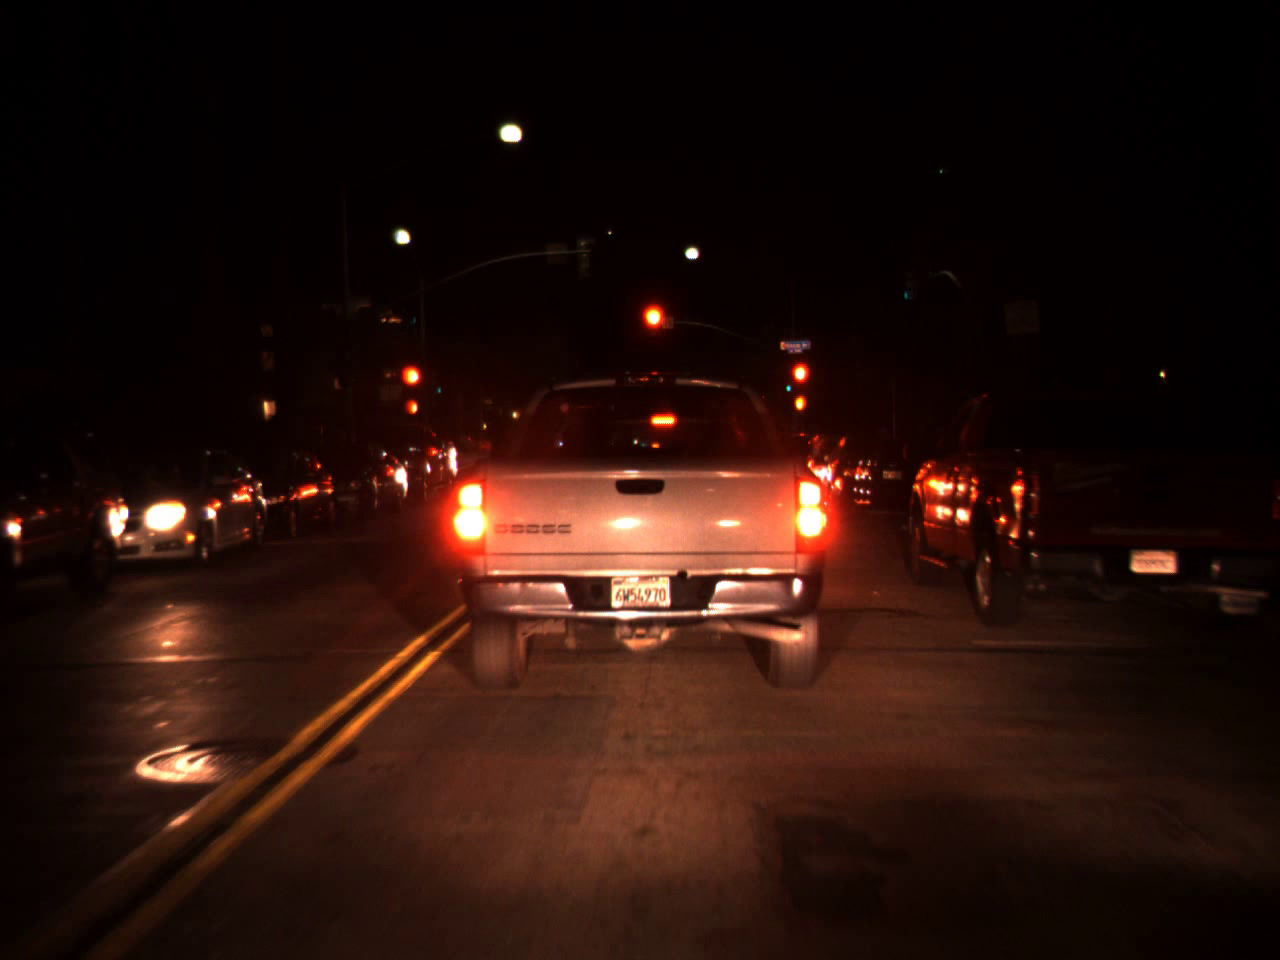stop: (639, 301, 669, 359), (398, 361, 423, 412), (789, 359, 811, 407)
